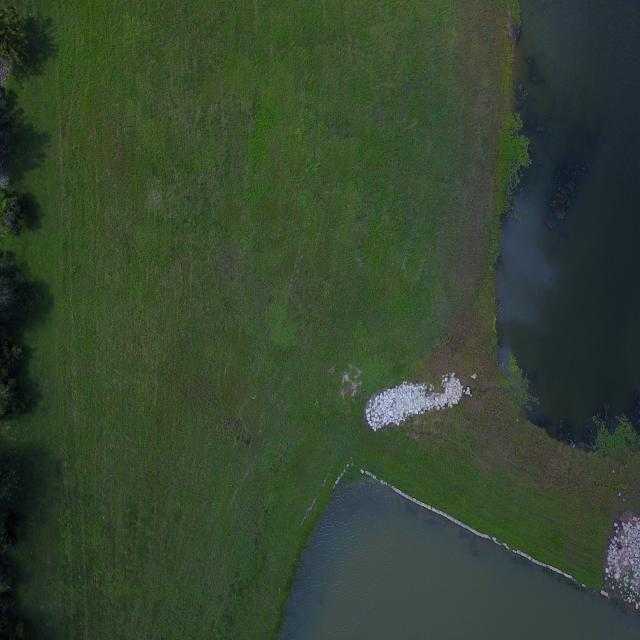fire: (497, 0, 640, 441), (279, 479, 640, 640)
